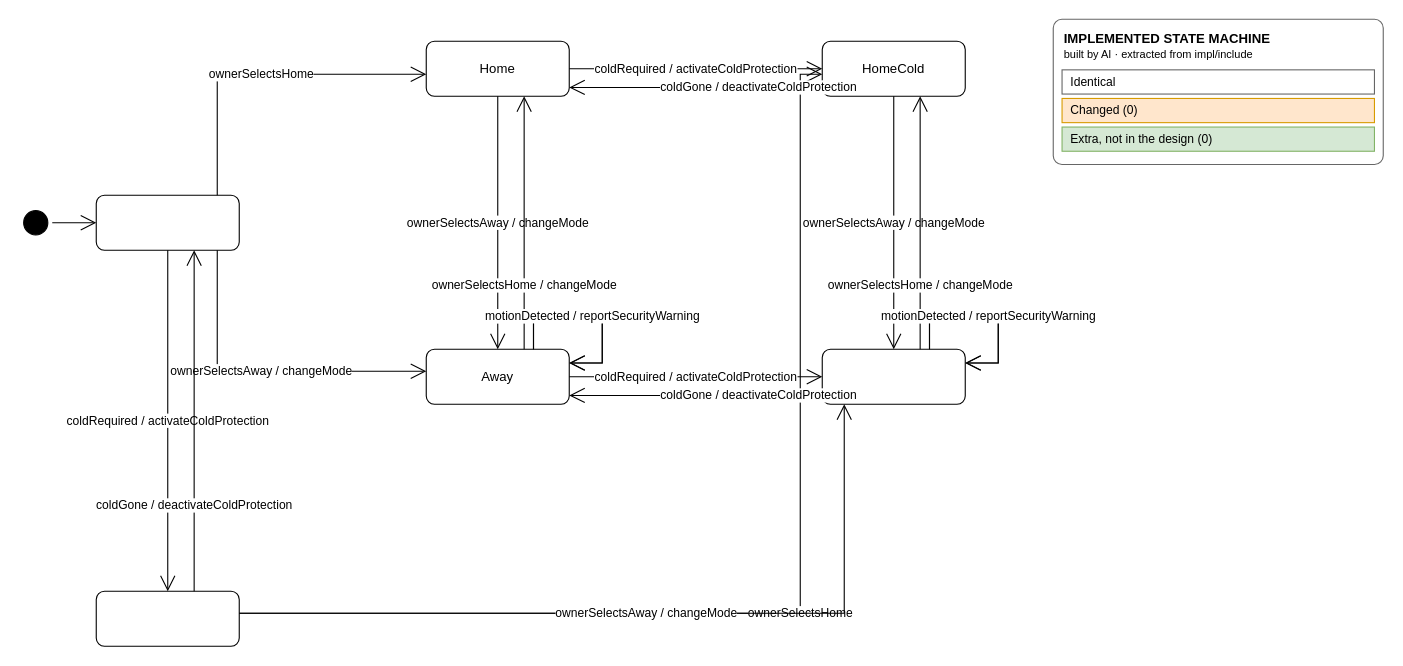
Image size: 1403x666. Some labels were removed from this diagram. Here are the shapes that lost their labels. From the top down, the centre of each, then its label:
point 167,222: Awaiting
point 893,376: AwayCold
point 167,618: AwaitingCold
